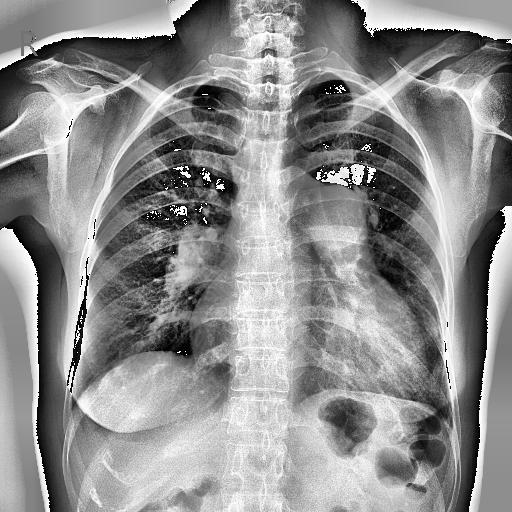3- Cardiomegaly: (190, 270, 426, 400), (188, 308, 428, 418), (188, 298, 429, 406)
7- Lung Opacity: (307, 178, 368, 266)
8- Nodule-Mass: (266, 179, 372, 270), (307, 178, 368, 266)
